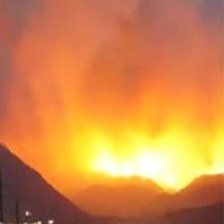fire: (94, 146, 224, 187)
